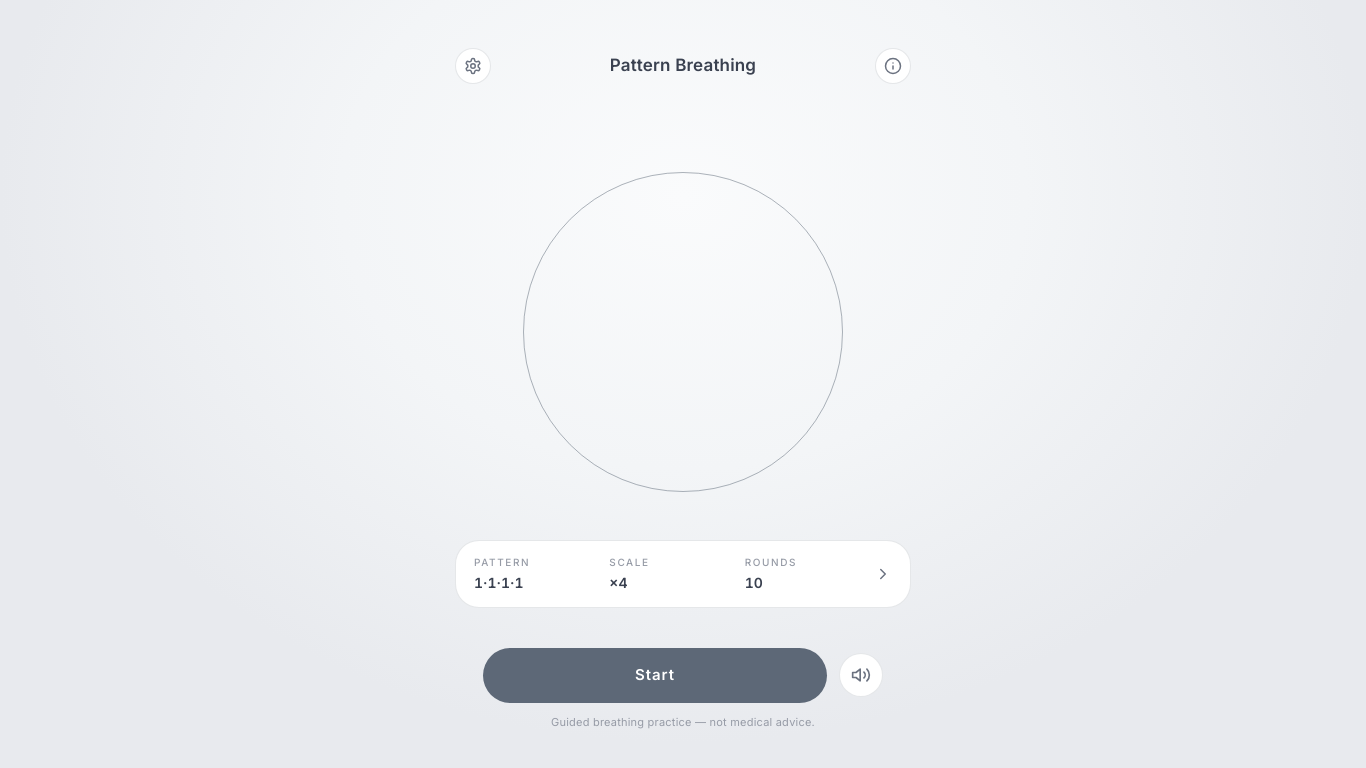
Test: main screen settings controls › shows the first-open Box-4 defaults (pattern, scale, rounds)
Click the button "Pattern 1·1·1·1 Scale ×4 Rounds 10".
click(502, 562)  # box [455, 540, 911, 608]
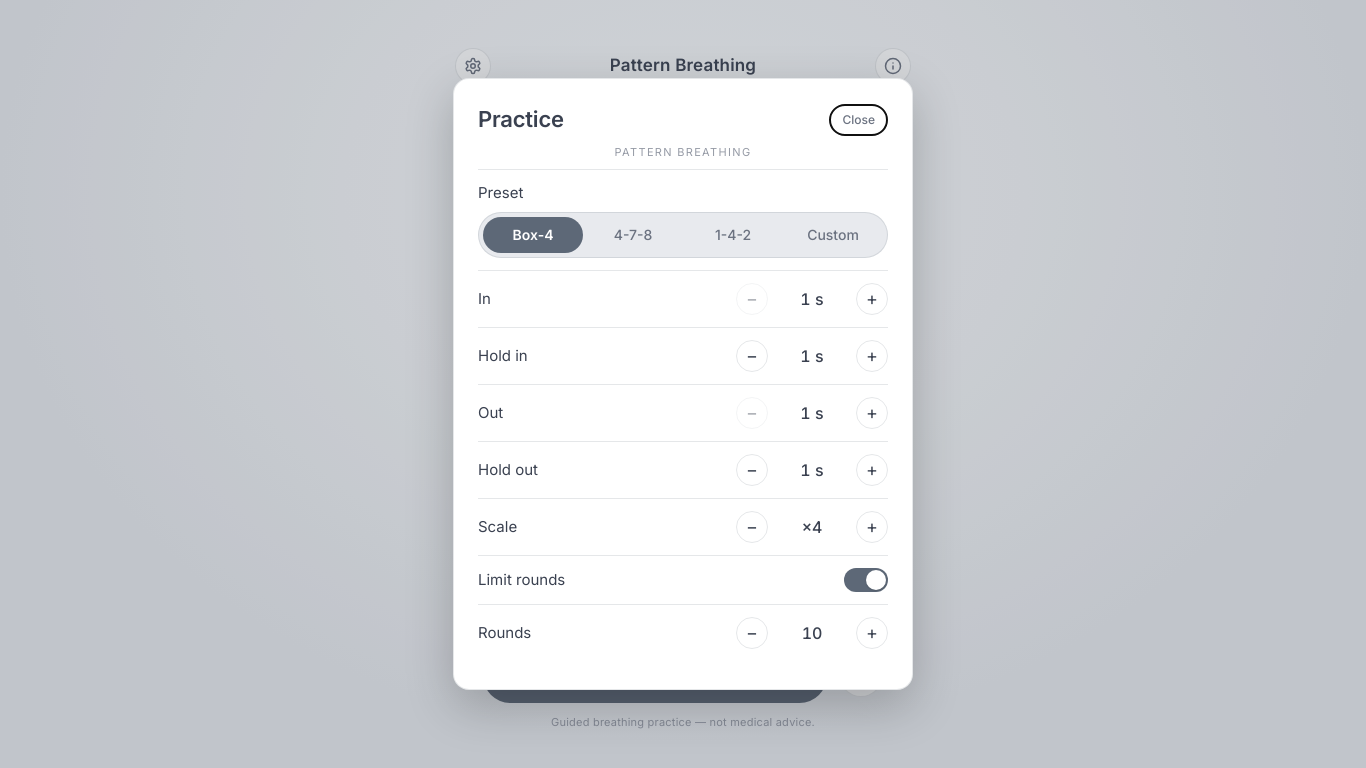
Check: the 1st text "1 s" is shown, box [800, 289, 824, 309]
Check: the text "×4" is shown, box [802, 517, 822, 537]
Check: the text "10" is shown, box [802, 623, 822, 643]
